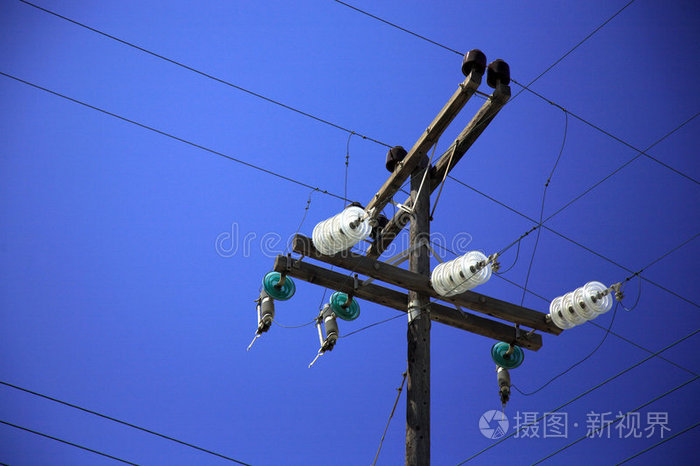insulator: (313, 206, 373, 258), (552, 281, 615, 328), (431, 251, 492, 297)
